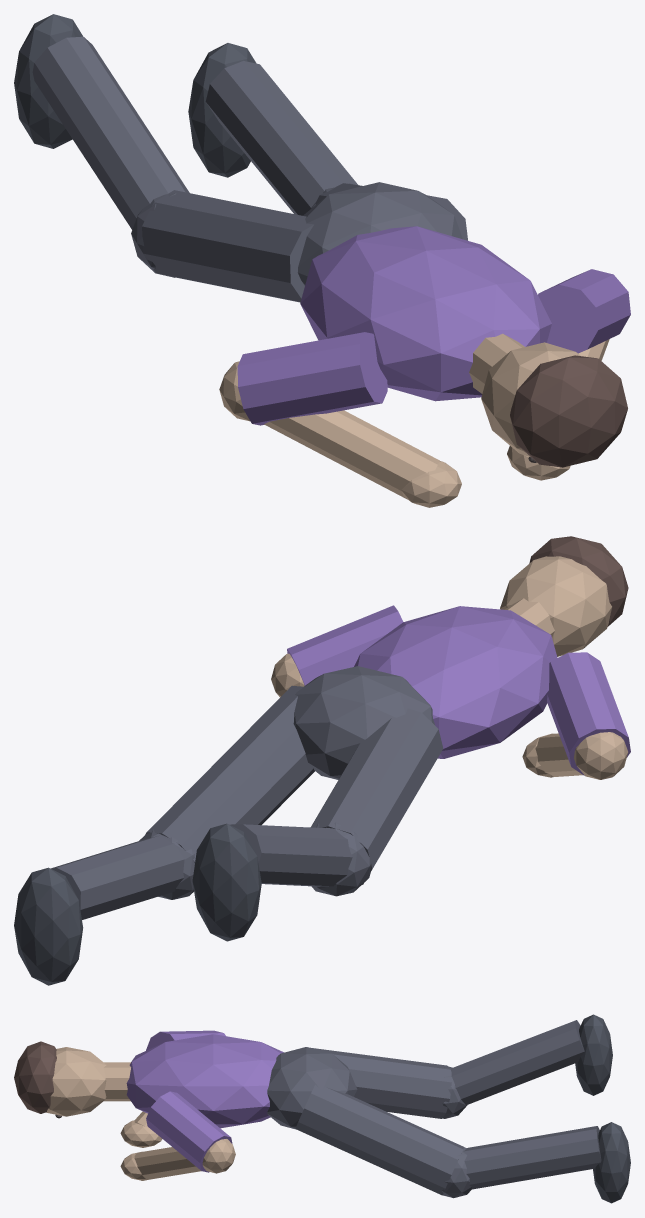
3 views of the same model, one above another, from view 1: azimuth 30°, elevation 25°; view 2: azimuth 150°, elevation 25°; view 3: azimuth 270°, elevation 25° (orthographic). The views are drawn at different scales.
Parts seen in each view (by area): view 1: world; view 2: world; view 3: world.
Boxes of the visible parts, box(x1,y1,x2,y2) form: world: box(14, 14, 630, 507); world: box(14, 536, 630, 985); world: box(14, 1014, 630, 1203).
Size of the model in its own units: 0.93 by 0.4905 by 2.06.
